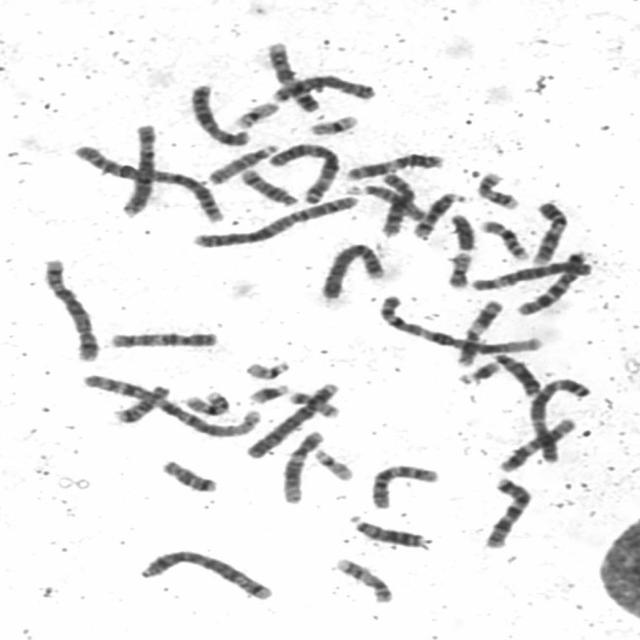A1: (77, 368, 265, 439), (373, 290, 548, 356)
A2: (68, 140, 228, 223), (188, 191, 362, 249)
A3: (524, 373, 595, 464), (264, 138, 342, 204)
B4: (240, 376, 343, 459), (316, 237, 388, 301)
B5: (134, 545, 276, 602), (37, 252, 102, 362)
C10: (364, 458, 442, 511), (103, 326, 221, 350)
C11: (453, 295, 506, 368), (339, 148, 448, 182)
C12: (494, 413, 580, 473), (276, 426, 326, 505)
C6: (464, 255, 593, 293), (116, 118, 160, 218)
C7: (510, 247, 589, 317), (479, 472, 535, 550)
C8: (266, 70, 379, 104), (375, 168, 416, 237)
C9: (261, 37, 322, 113), (526, 196, 572, 266)
D13: (344, 510, 432, 550), (488, 348, 542, 397)
D14: (407, 188, 471, 240), (234, 163, 302, 208)
D15: (202, 139, 280, 186), (344, 180, 430, 222)
E16: (475, 215, 532, 261), (177, 386, 233, 417)
E17: (329, 553, 395, 605), (472, 167, 523, 211)
E18: (107, 380, 173, 425), (156, 455, 221, 493)
F19: (228, 96, 282, 130), (304, 110, 361, 136)
F20: (284, 387, 342, 420), (441, 247, 475, 290)
G21: (452, 356, 503, 386), (242, 378, 292, 406)
G22: (308, 444, 358, 482), (239, 355, 294, 381)
X: (185, 79, 254, 147)
Y: (444, 208, 480, 252)
